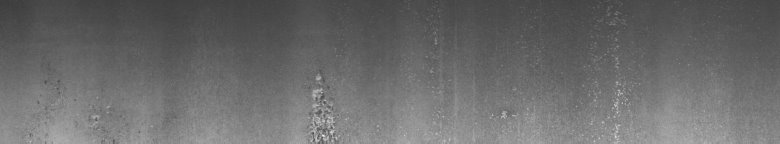hc: (305, 69, 344, 136)
